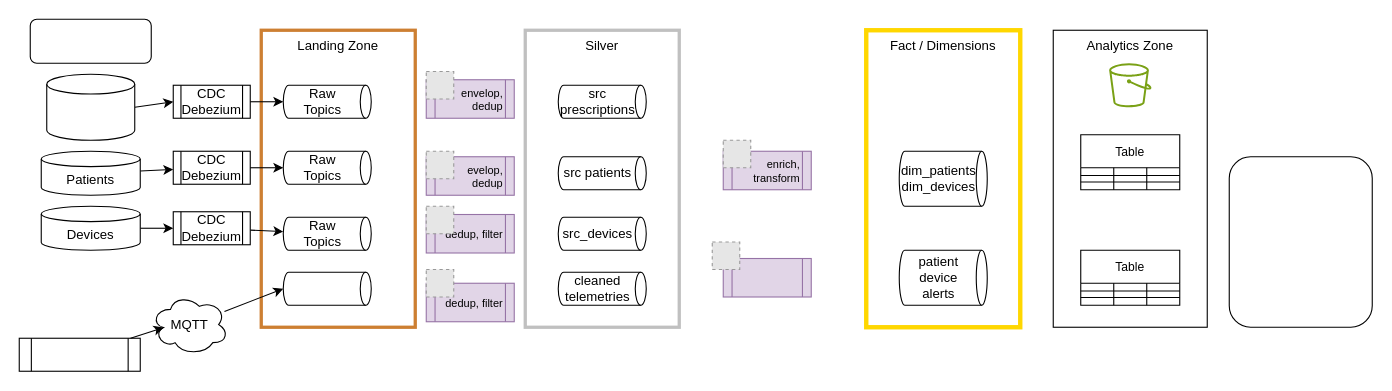
The diagram is 1392 pixels wide and 391 high, and some of its shapes have lost their labels. Grey dashed boxes stand in for pictures. The shapes that lost their labels are listed below. From the top down, each one's centre as x and y in pixels, then its label:
At point 90,40: "Web Portal".
At point 90,106: "Prescriptions".
At point 1300,241: "BI Dashboard".
At point 326,288: "telemetries".
At point 766,277: "windowing stateful".
At point 79,354: "device <id>".
